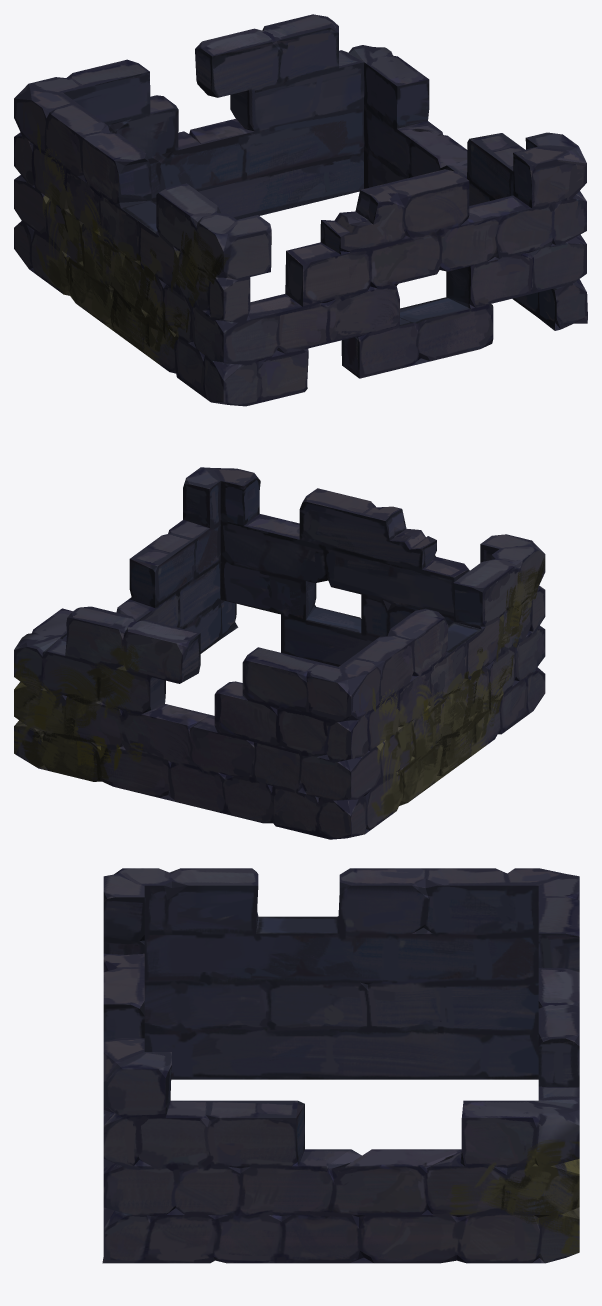
File: Ruins09.fbx
3 views of the same model, one above another, from view 1: azimuth 30°, elevation 25°; view 2: azimuth 150°, elevation 25°; view 3: azimuth 270°, elevation 25° (orthographic). The views are drawn at different scales.
Visible parts, largest first — view 1: Ruins09; view 2: Ruins09; view 3: Ruins09.
Boxes of the visible parts, x1,y1,x2,y2 form: Ruins09: [14, 14, 587, 406]; Ruins09: [14, 467, 545, 839]; Ruins09: [102, 868, 579, 1263].
Bounding box in the file's own units: 6.24 × 2.2 × 5.89.
Materials: 2 (2 with a texture image).
